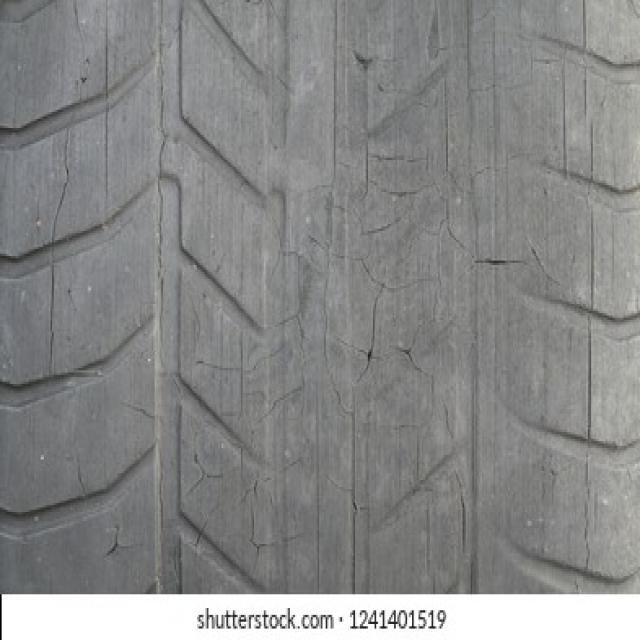Flat spots: (97, 0, 568, 592)
